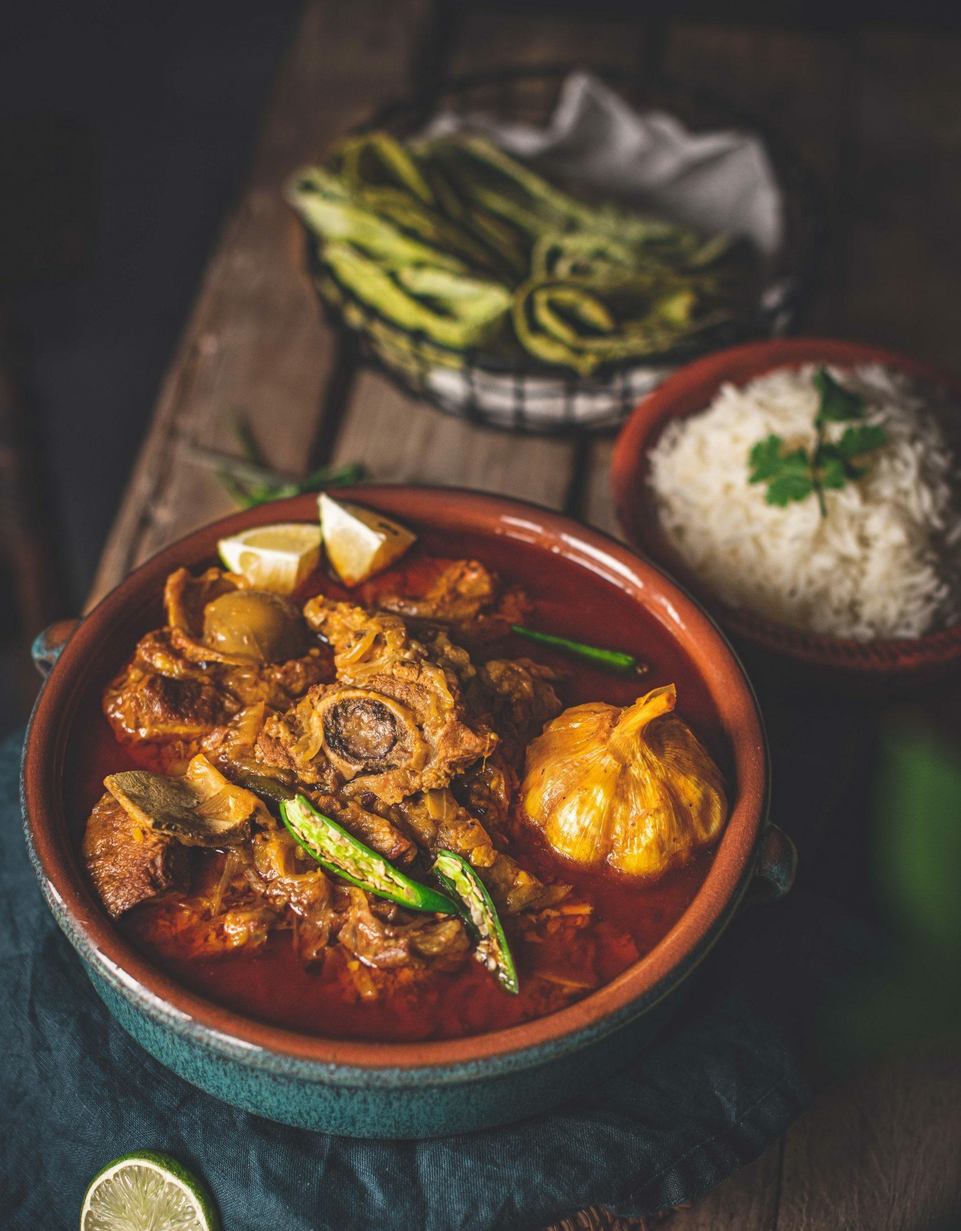MuttonCurry: (60, 493, 726, 1047)
WhiteRice: (651, 365, 961, 637)
